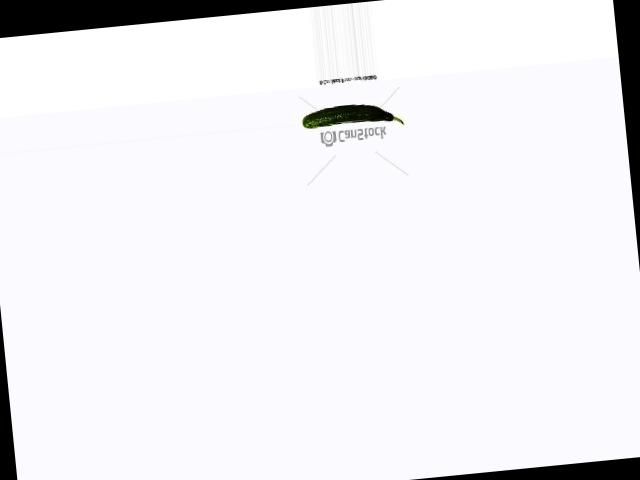cucumber: (302, 99, 404, 133)
